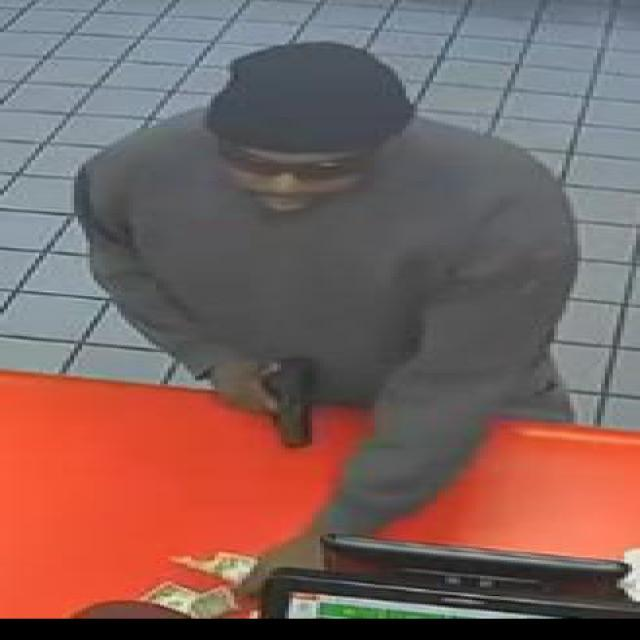Gun: (215, 354, 316, 446)
